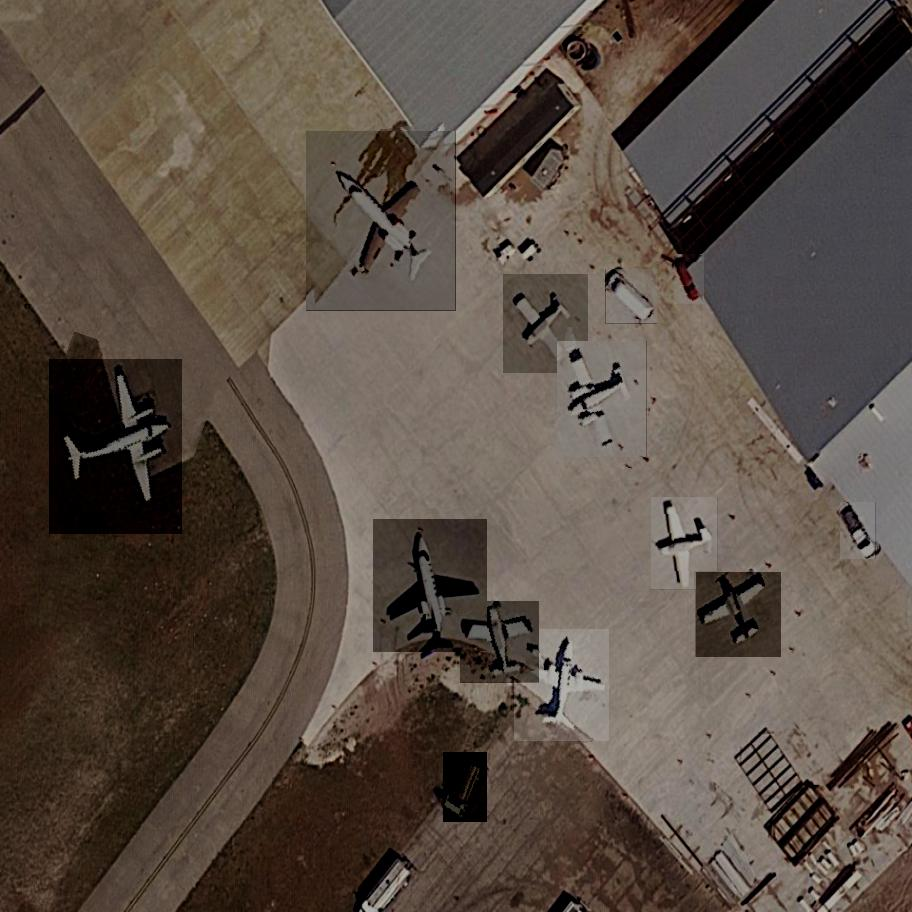large-vehicle: (441, 752, 491, 822), (604, 270, 659, 325), (839, 502, 877, 559)
plane: (294, 131, 472, 311), (45, 359, 192, 534), (373, 520, 494, 653), (549, 341, 650, 457), (513, 629, 613, 741), (496, 275, 592, 374), (692, 573, 786, 657), (460, 602, 541, 684), (651, 498, 720, 590)
small-vehicle: (673, 254, 706, 304)
